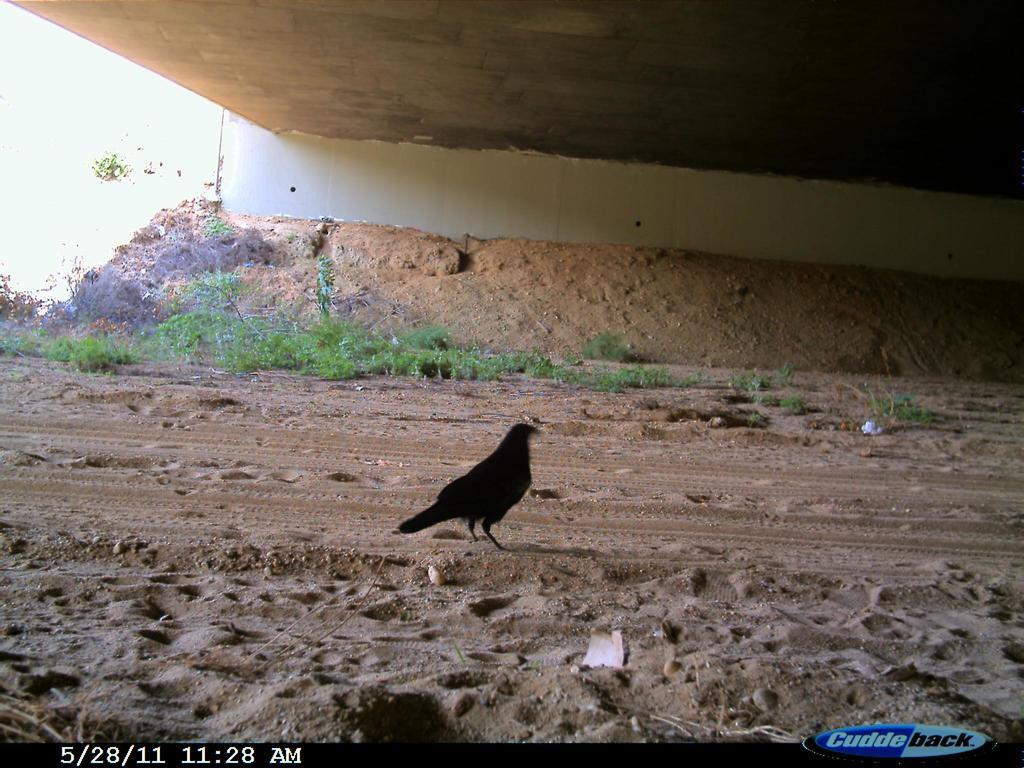bird: (385, 405, 564, 560)
